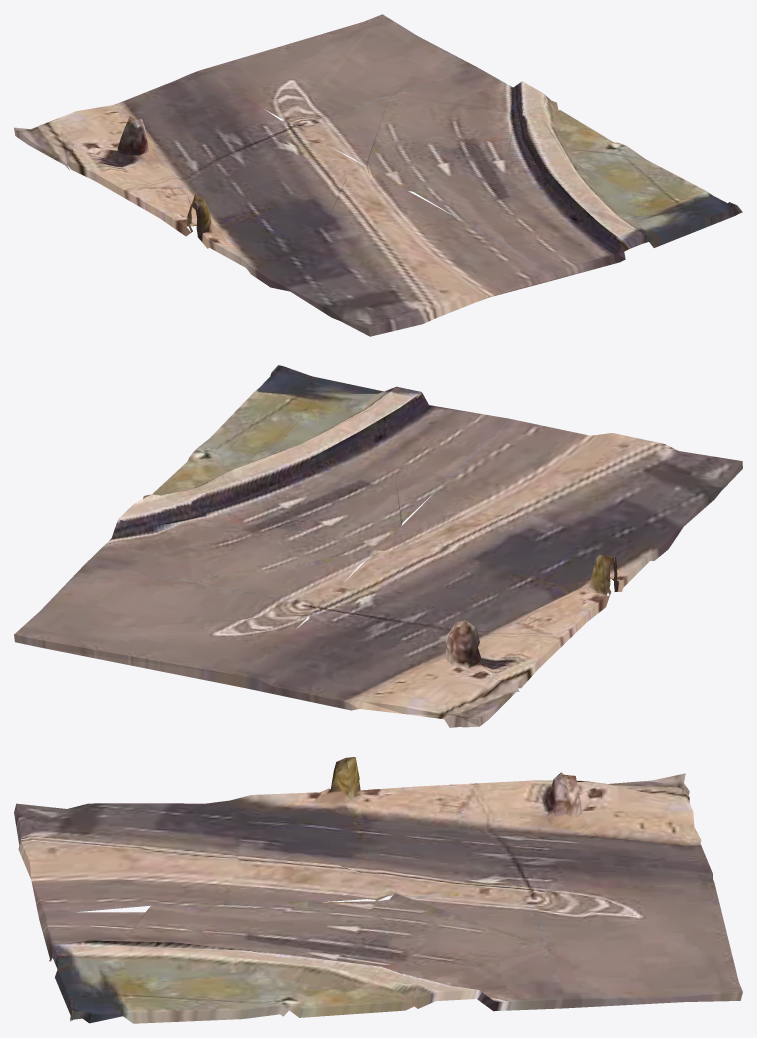
3 renders of one model, top to bottom at view 1: azimuth 30°, elevation 25°; view 2: azimuth 150°, elevation 25°; view 3: azimuth 270°, elevation 25°, orthographic. The views are drawn at different scales.
Visible parts, largest first — view 1: Mesh_0; view 2: Mesh_0; view 3: Mesh_0.
Part boxes in pixels (<box>): Mesh_0: <box>14,14,742,336</box>; Mesh_0: <box>14,365,742,727</box>; Mesh_0: <box>14,757,742,1023</box>.
Size of the model in its own units: 33.62 by 3.31 by 41.09.
Materials: 1 (1 with a texture image).
